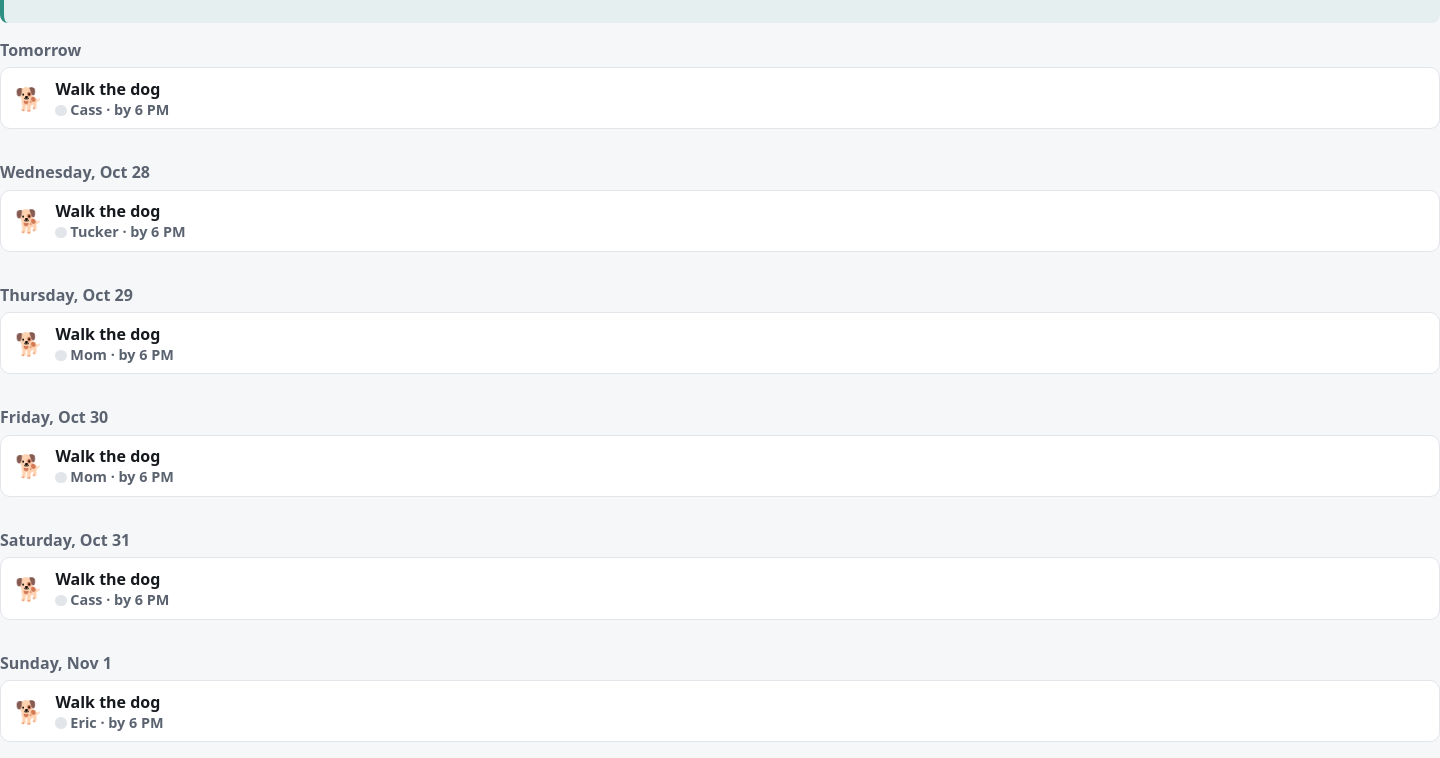
Scenario: calendar › can find a swap by chore first
The width and height of the screenshot is (1440, 758).
(page scrolled)
Click the button "🐕 Walk the dog Eric · by 6 PM".
click(108, 702)  # box [0,680,1439,742]
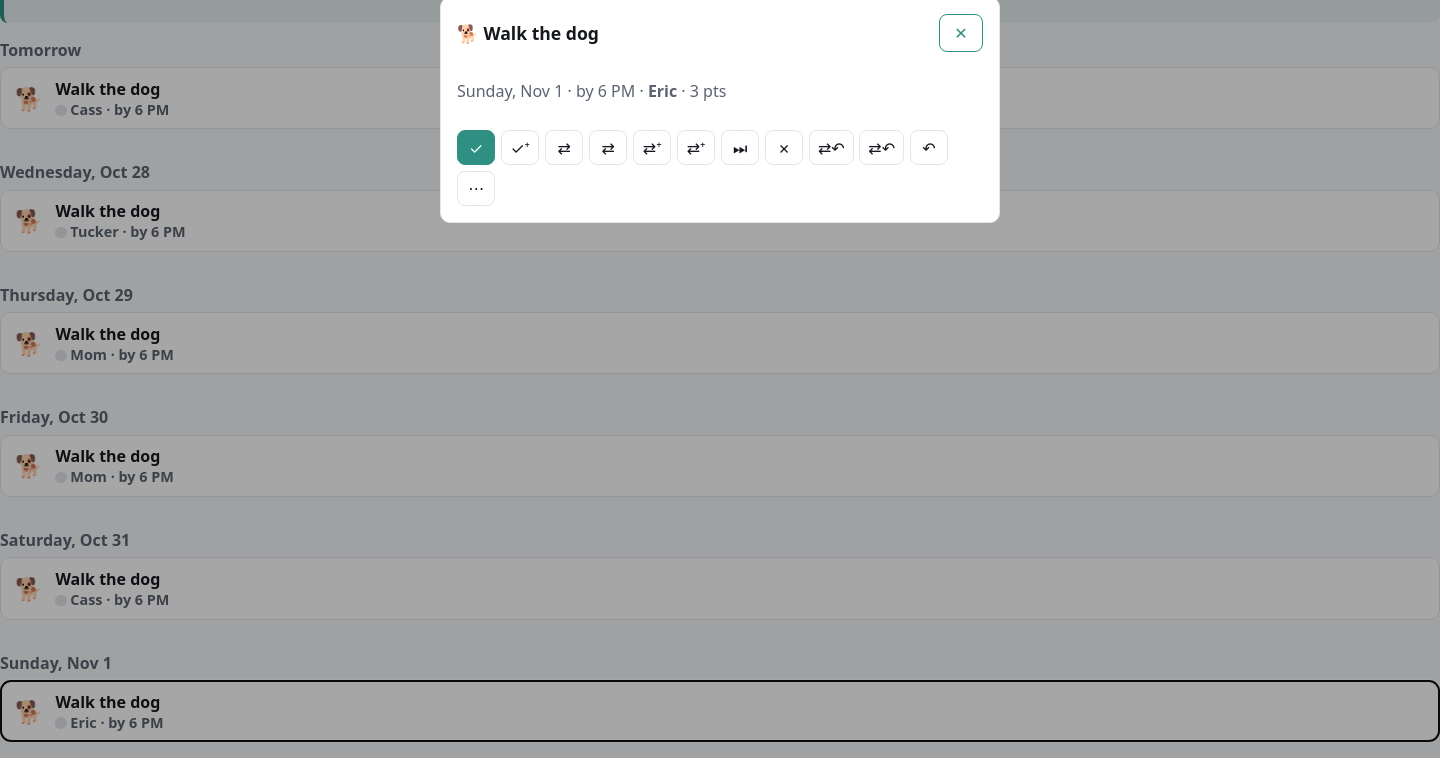
Click the button named "Swap".
click(608, 148)  # box [589,130,627,165]
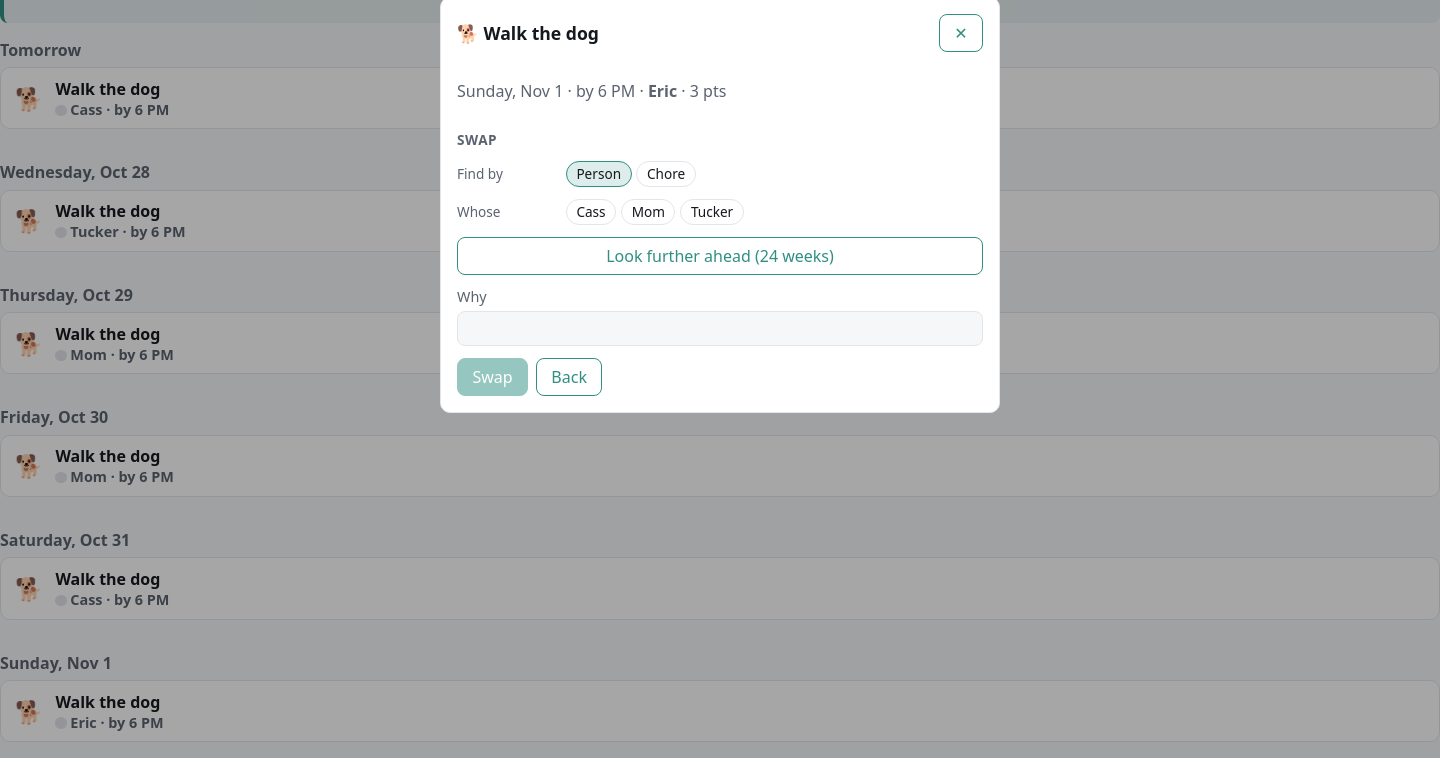
Click the button "Chore".
click(666, 174)  # box [636,161,696,187]
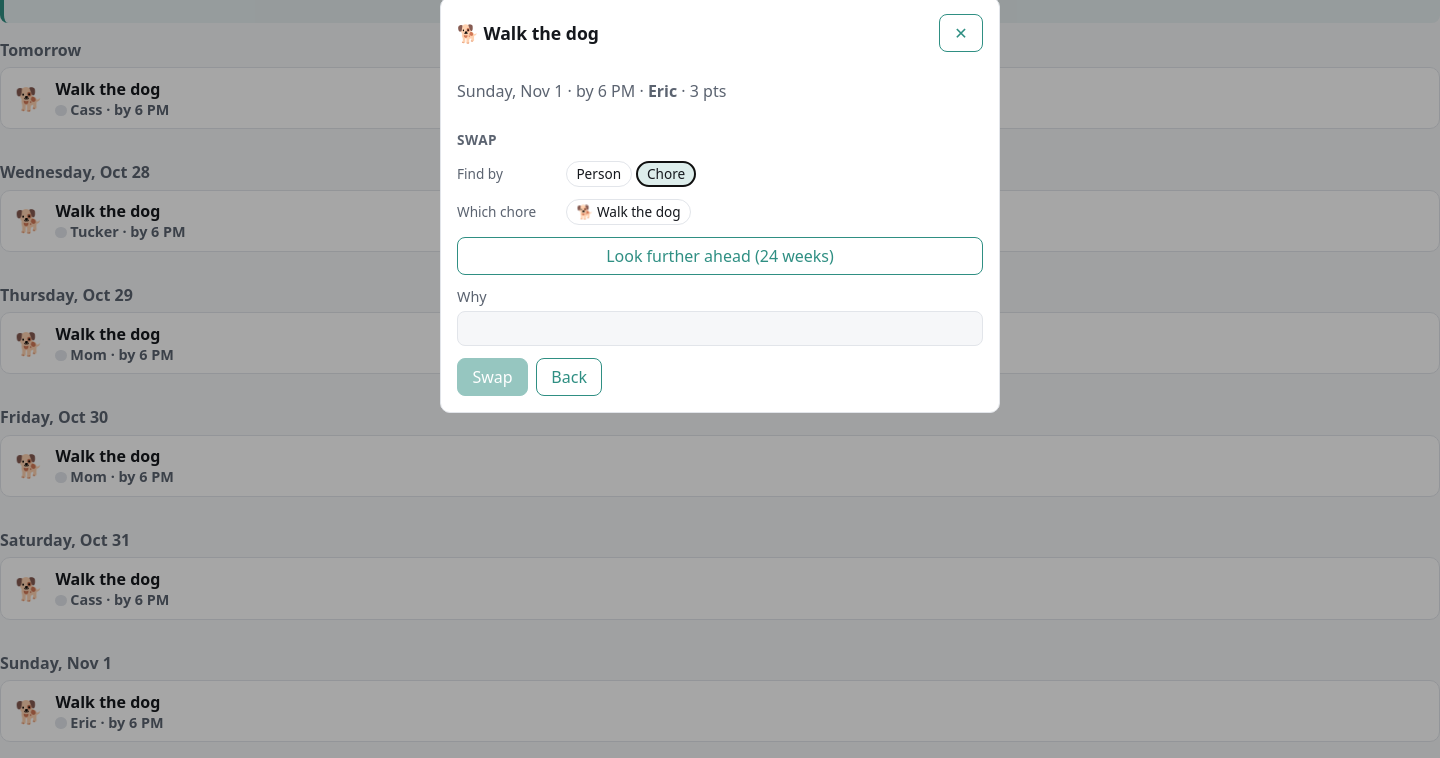
Click the button "🐕 Walk the dog".
click(629, 212)  # box [566,199,691,225]
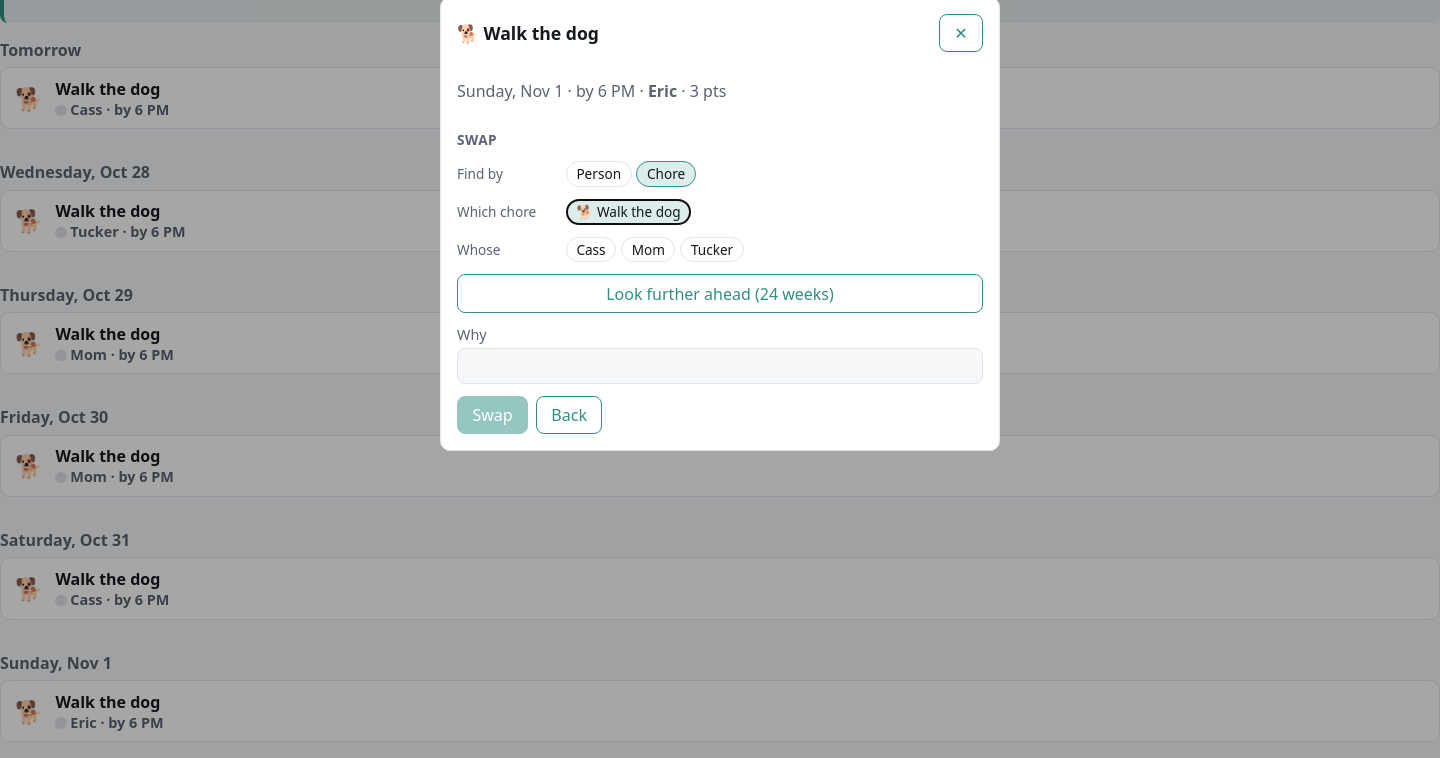
Check: the button "Cass" is shown, box [566,236,616,262]
